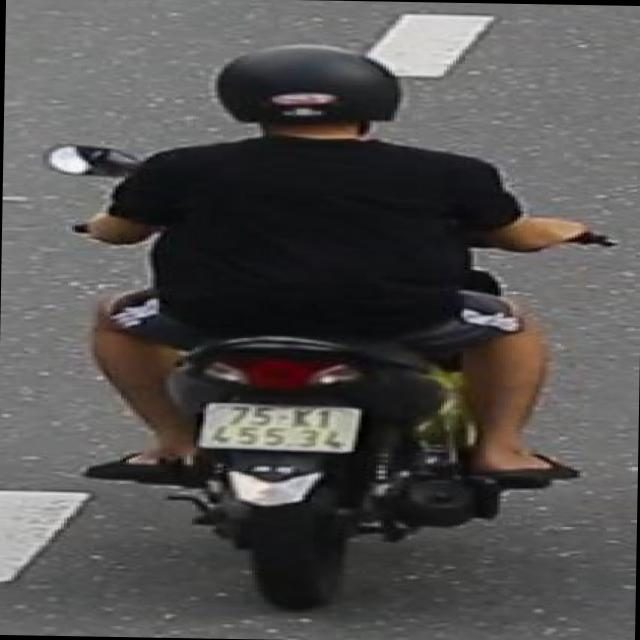LP: (194, 396, 368, 456)
helmet: (206, 36, 406, 150)
